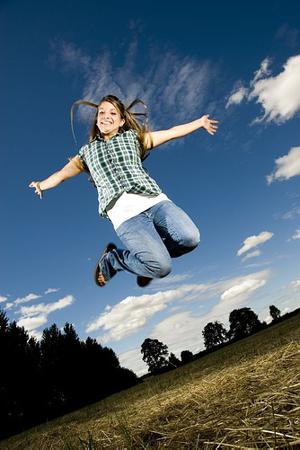person: (29, 95, 221, 288)
